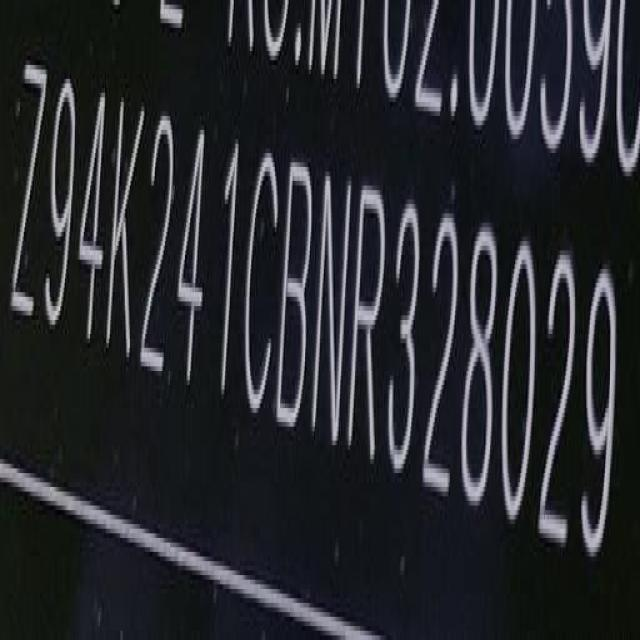0: (503, 235, 538, 524)
1: (217, 136, 241, 408)
2: (540, 253, 577, 554), (428, 214, 460, 497), (142, 106, 174, 382)
3: (392, 196, 422, 477)
4: (178, 119, 210, 390), (78, 83, 110, 353)
8: (462, 224, 496, 508)
9: (584, 272, 620, 562), (47, 72, 78, 335)
B: (280, 156, 316, 435)
C: (245, 151, 278, 423)
K: (110, 98, 141, 367)
N: (315, 172, 351, 450)
R: (350, 187, 387, 466)
Z: (12, 57, 45, 326)
